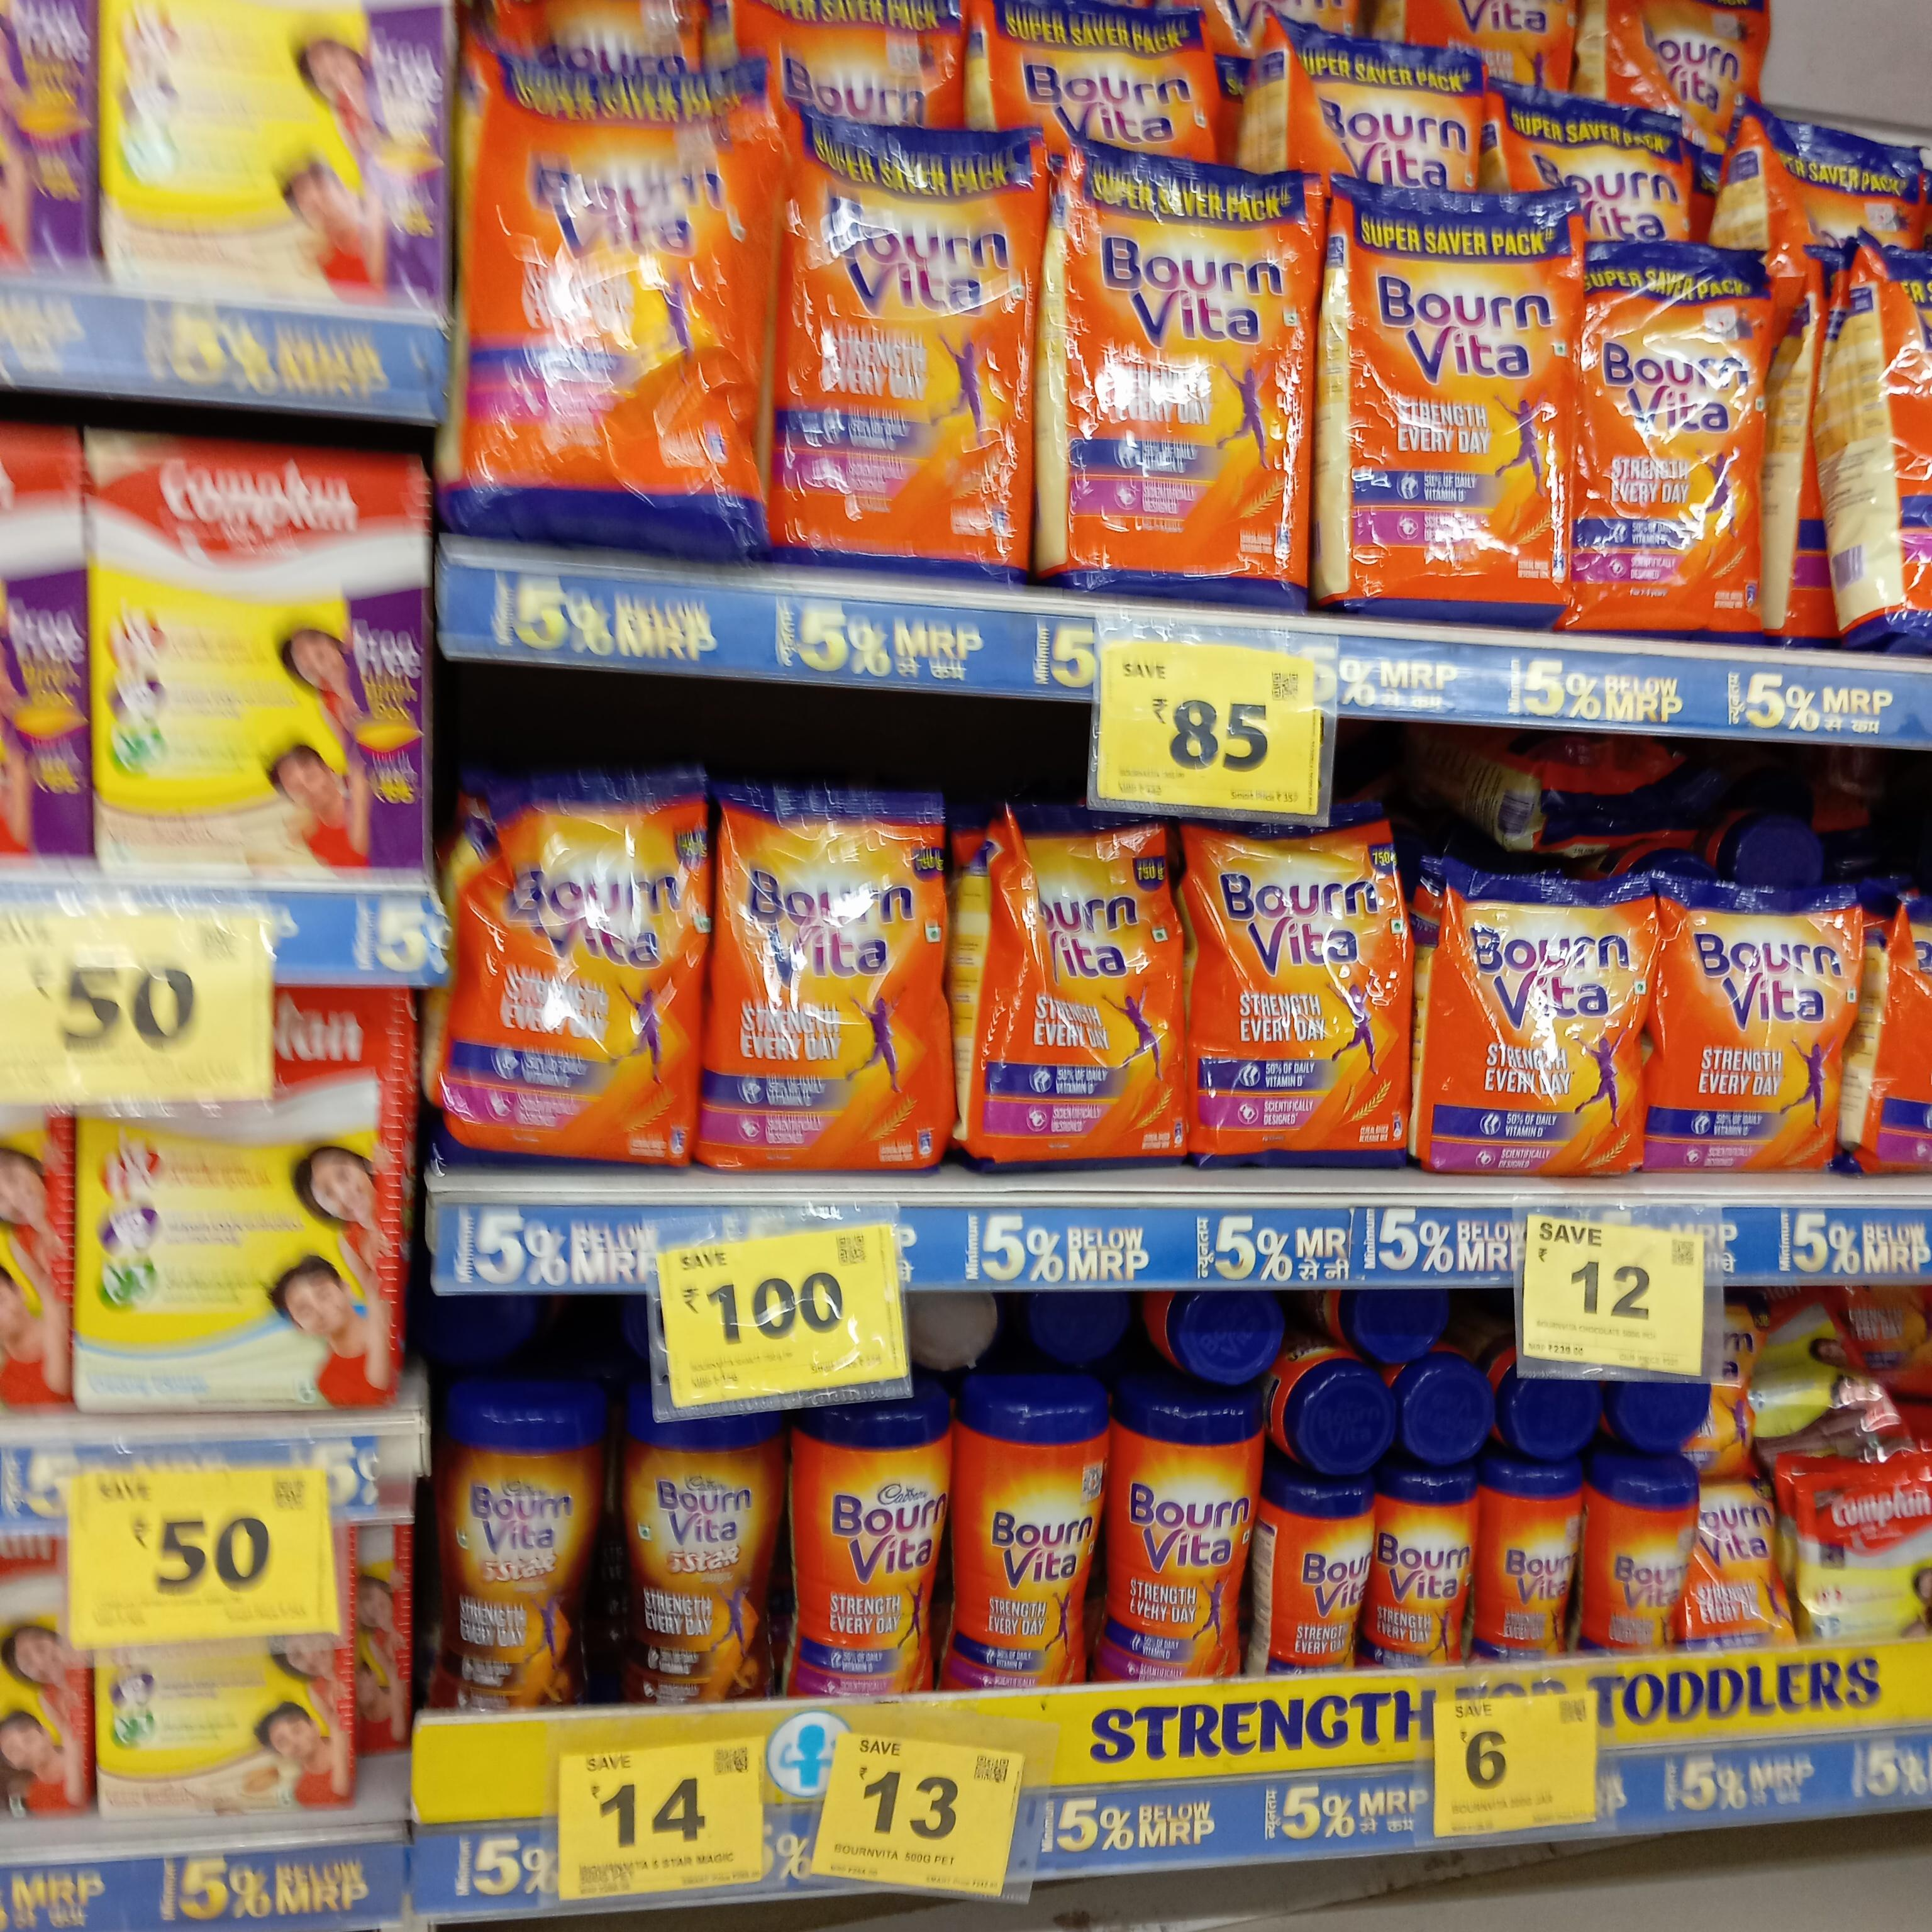BOURN_VITA_1_KG_POUCH: (472, 58, 773, 540), (789, 113, 1039, 579), (1062, 147, 1315, 605), (1343, 182, 1553, 616), (1571, 246, 1775, 642)
BOURN_VITA_200_G_JAR: (1269, 1481, 1382, 1672), (1591, 1472, 1698, 1654), (1384, 1468, 1479, 1663), (1491, 1470, 1580, 1661)
BOURN_VITA_500_G_JAR: (796, 1382, 954, 1704), (959, 1376, 1109, 1702), (1118, 1387, 1253, 1690)
BOURN_VITA_500_G_POUCH: (1440, 870, 1645, 1184), (1660, 883, 1859, 1169)
BOURN_VITA_750_G_POUCH: (456, 778, 699, 1161), (709, 796, 945, 1166), (989, 793, 1182, 1178), (1194, 807, 1399, 1168)
BOURN_VITA_FIVE_STAR_MAGIC_500_G_JAR: (614, 1389, 786, 1718), (437, 1382, 593, 1721)
COMPLAN_KESAR_BADAM_500_GMS_PACK: (101, 451, 423, 883), (111, 0, 451, 315)
